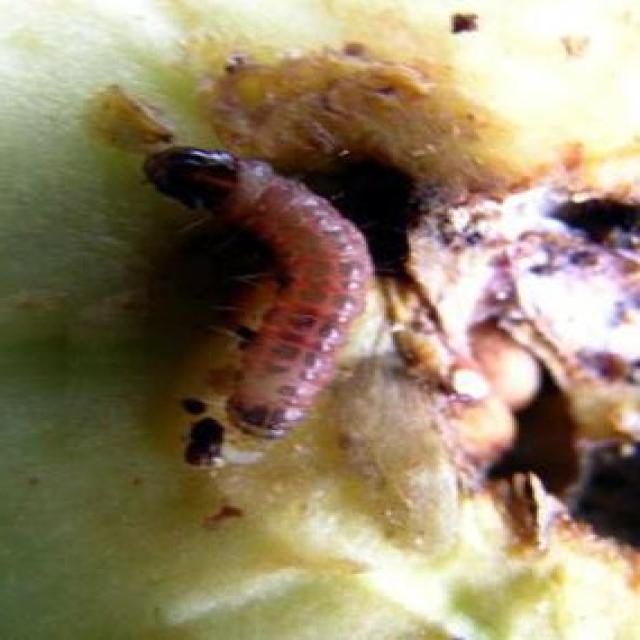peach borer: (137, 141, 386, 474)
